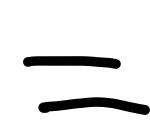eqv: (23, 56, 150, 115)
